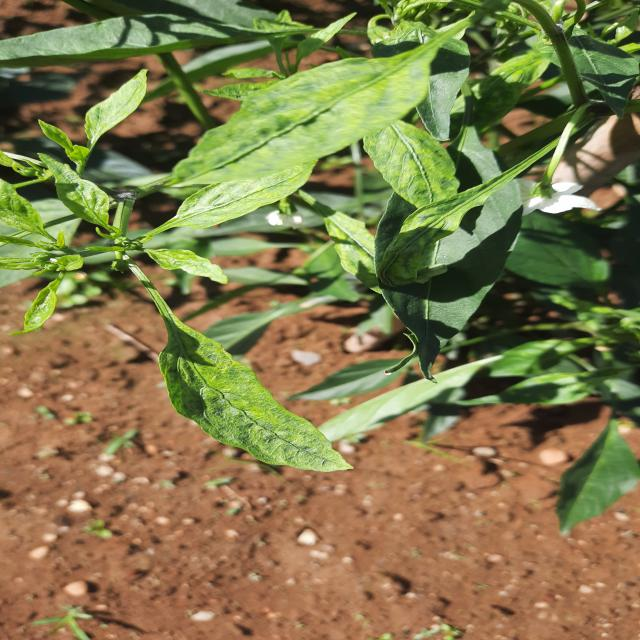thrips: (122, 304, 358, 480), (170, 55, 450, 166), (350, 112, 478, 213), (176, 158, 316, 230)
